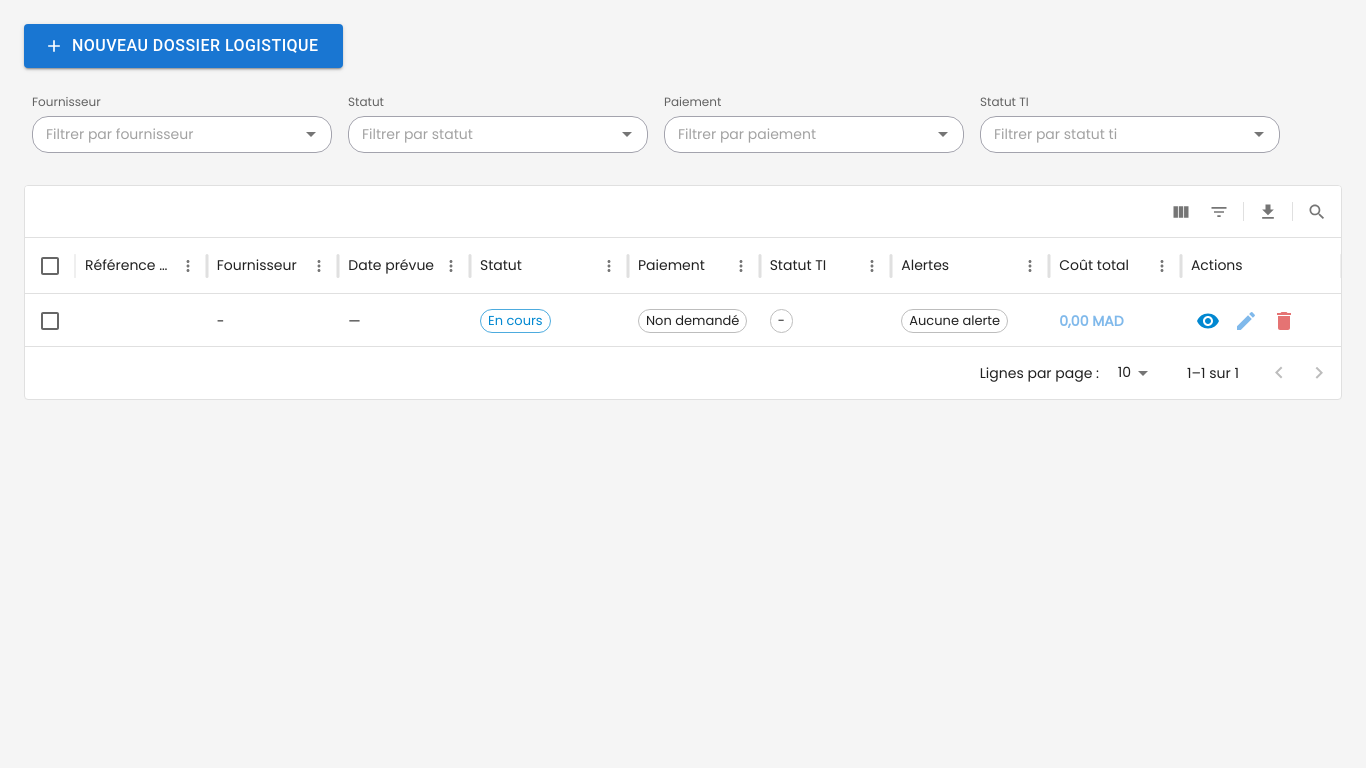
Test: LogistiqueListClient › requires confirmation before deleting and refreshes the list after success
Click the button named "Supprimer" at (1284, 321), box [1267,304,1301,338]
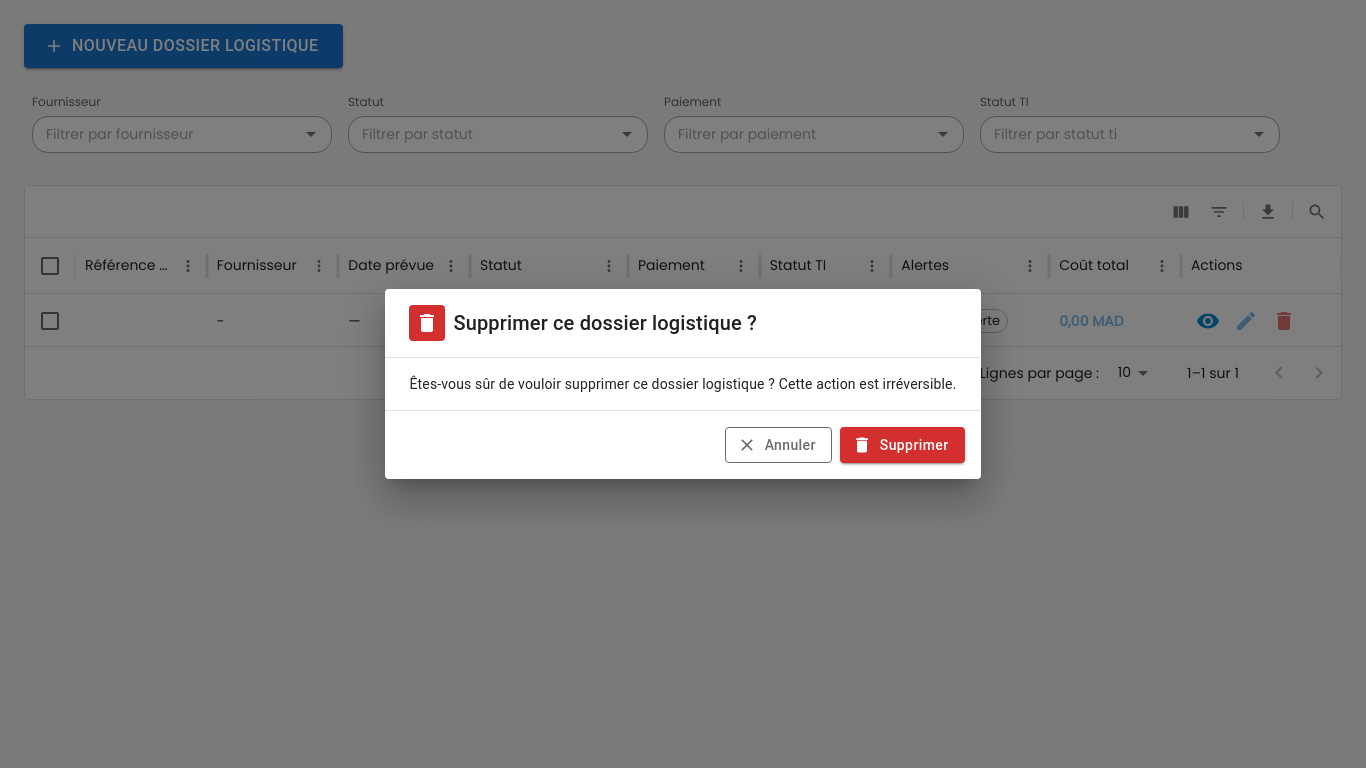
Click the button "Supprimer" at (902, 445), box [840,427,964,463]
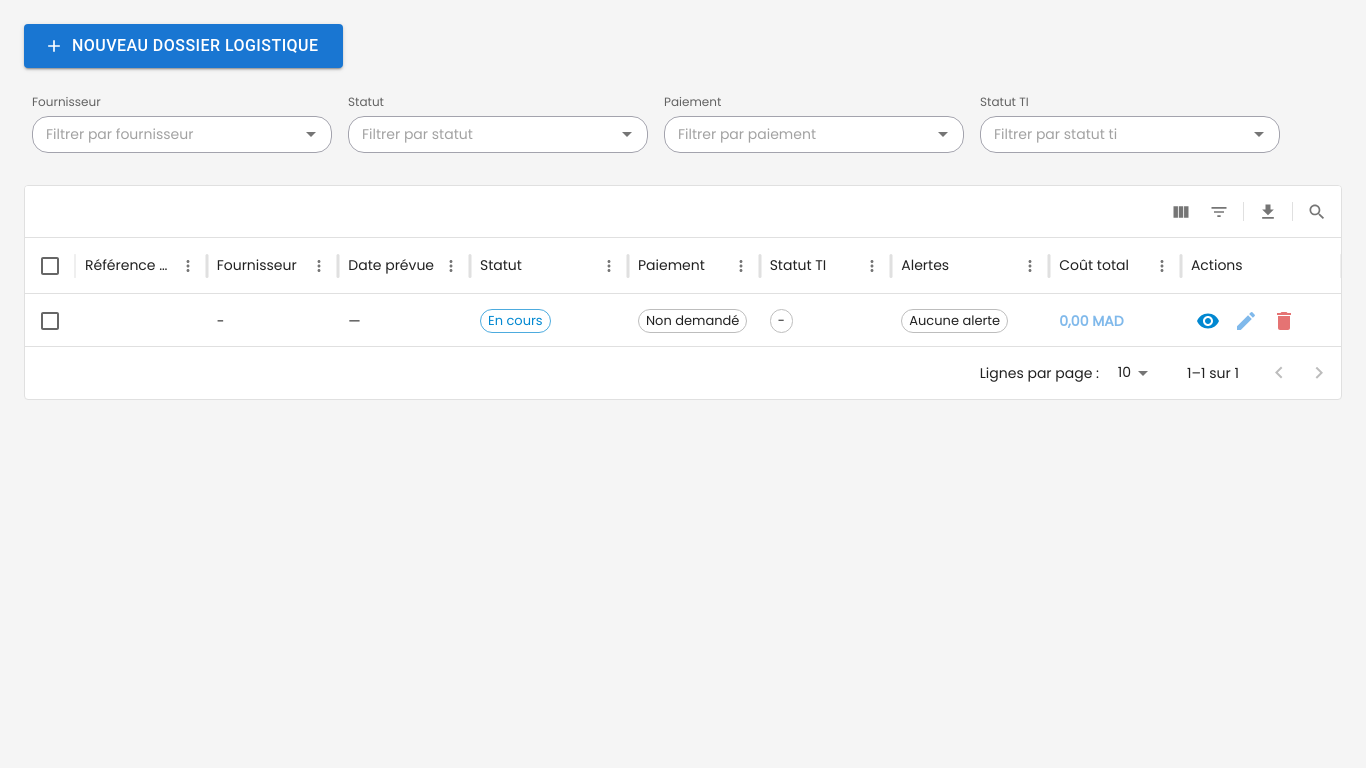
Now the dialog is gone
